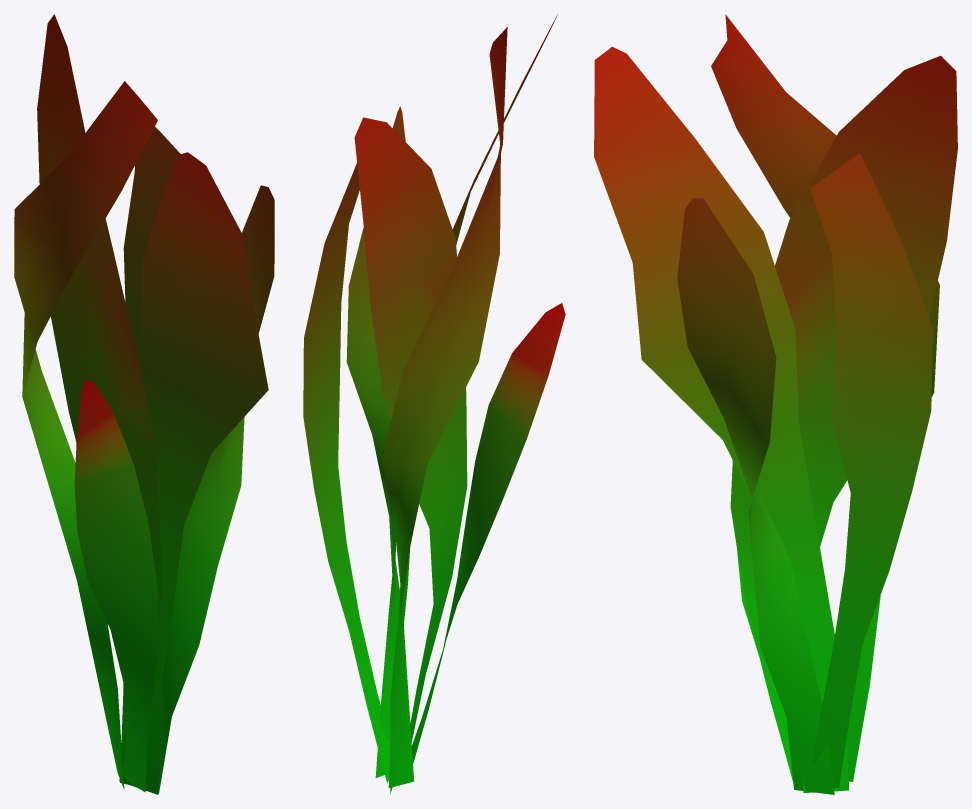
Rendered from Snake Plant_LOD1_Var2_sgtmY.fbx.
3 renders of one model, left to right at view 1: azimuth 30°, elevation 25°; view 2: azimuth 150°, elevation 25°; view 3: azimuth 270°, elevation 25°, orthographic. The views are drawn at different scales.
Visible parts, largest first — view 1: _0935_Var2_LOD1; view 2: _0935_Var2_LOD1; view 3: _0935_Var2_LOD1.
Boxes of the visible parts, <box> form: _0935_Var2_LOD1: <box>14,14,274,794</box>; _0935_Var2_LOD1: <box>303,14,565,794</box>; _0935_Var2_LOD1: <box>594,14,957,794</box>.
Size of the model in its own units: 26.2 by 97.8 by 43.09.
